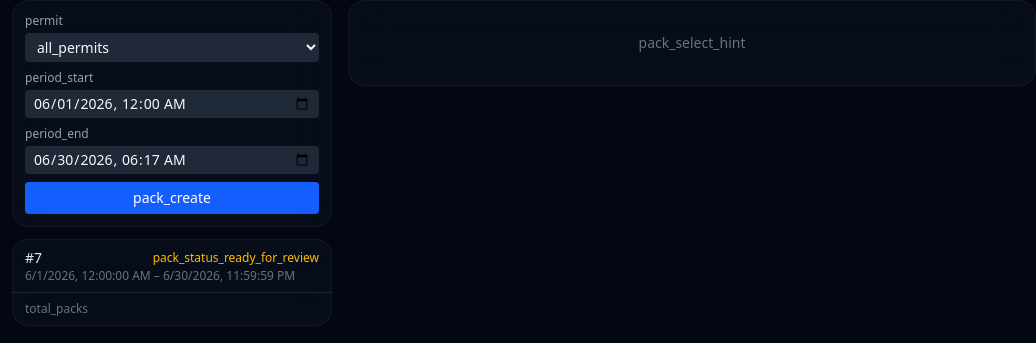
Test: Compliance ReportPacksTab › hides the approve button for non-admin (operator) users
The image size is (1036, 343).
Click the text "#7" at (34,258), box [25, 248, 42, 268]
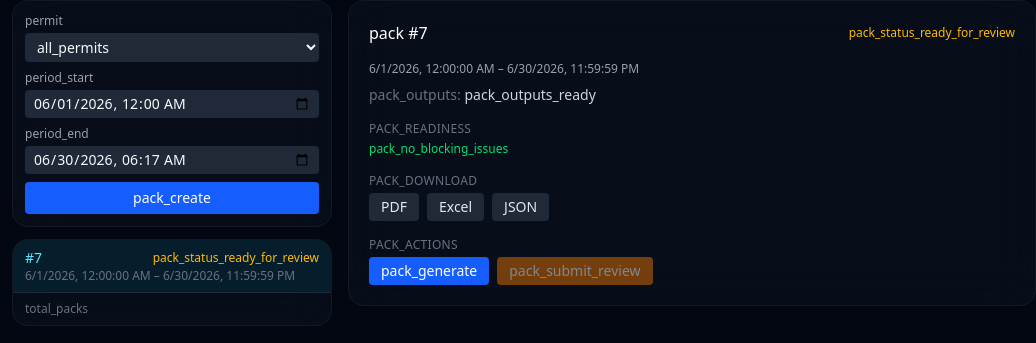
Check: the button "pack_generate" is shown, box [369, 257, 489, 285]
Check: the button "pack_submit_review" is shown, box [497, 257, 653, 285]
